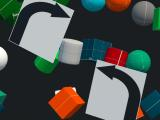Left: (85, 59, 147, 120)
Right: (9, 0, 74, 64)
